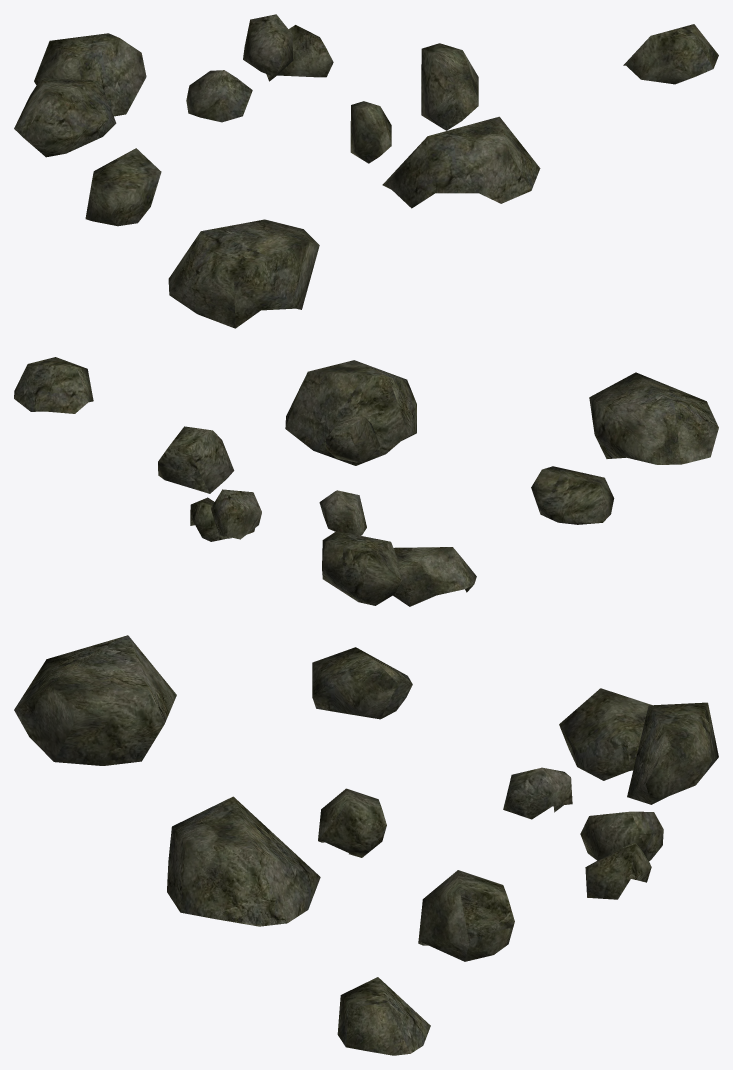
Rendered from MIN_LOB_COUPLESTONES.glb.
3 views of the same model, one above another, from view 1: azimuth 30°, elevation 25°; view 2: azimuth 150°, elevation 25°; view 3: azimuth 270°, elevation 25° (orthographic). The views are drawn at different scales.
Parts seen in each view (by area): view 1: Mesh; view 2: Mesh; view 3: Mesh.
Boxes of the visible parts, x1=… form: Mesh: x1=14, y1=14, x2=718, y2=328; Mesh: x1=14, y1=357, x2=718, y2=606; Mesh: x1=14, y1=635, x2=718, y2=1055.
Size of the model in its own units: 10.66 by 1.29 by 8.38.
1 material, 1 textured.
